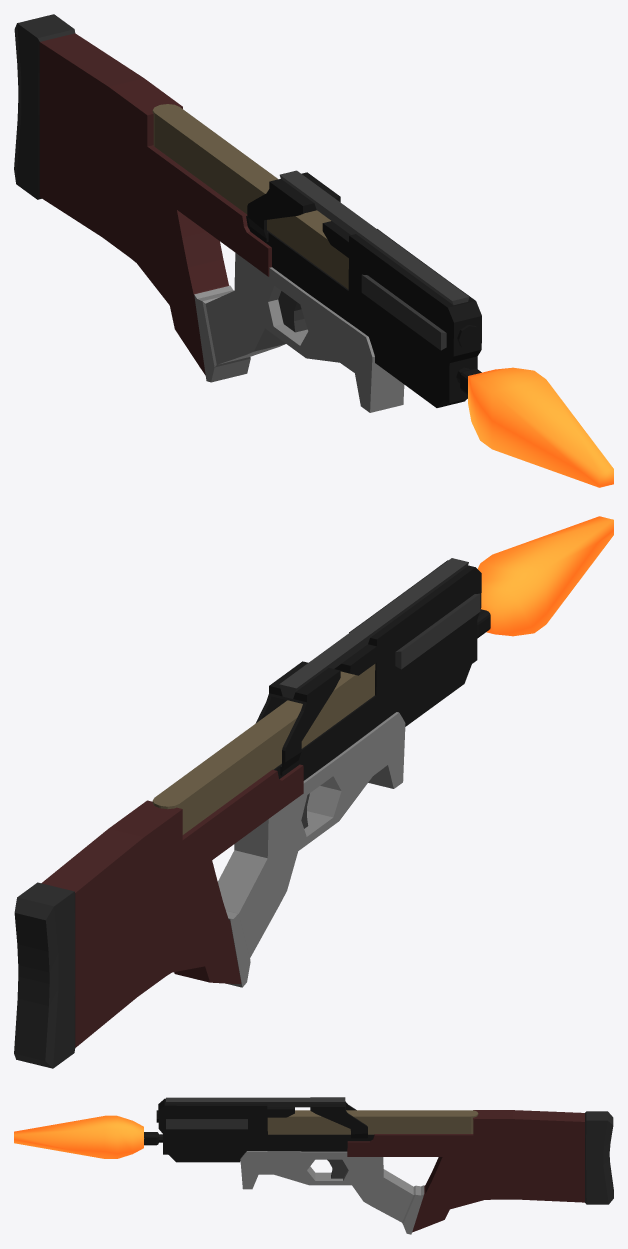
The model's file is BarracudaModel.glb.
3 renders of one model, top to bottom at view 1: azimuth 30°, elevation 25°; view 2: azimuth 150°, elevation 25°; view 3: azimuth 270°, elevation 25°, orthographic. The views are drawn at different scales.
Parts seen in each view (by area): view 1: WoodenStock, BarrelAndAction, PistolGripSection, MuzzleFlash, Magazine, PicatinnyTop, RailBridge, PicatinnyRigt, TriggerMesh; view 2: WoodenStock, PistolGripSection, BarrelAndAction, MuzzleFlash, Magazine, PicatinnyTop, RailBridge, PicatinnyRigt; view 3: WoodenStock, BarrelAndAction, PistolGripSection, Magazine, MuzzleFlash, PicatinnyTop, RailBridge, PicatinnyLeft, TriggerMesh.
Part boxes in pixels (<box>): WoodenStock: <box>14,14,271,375</box>; BarrelAndAction: <box>246,216,481,407</box>; PistolGripSection: <box>194,253,404,412</box>; MuzzleFlash: <box>468,367,613,487</box>; Magazine: <box>152,104,348,289</box>; PicatinnyTop: <box>279,170,469,305</box>; RailBridge: <box>247,172,340,242</box>; PicatinnyRigt: <box>361,274,446,350</box>; TriggerMesh: <box>278,291,307,332</box>; WoodenStock: <box>14,764,303,1068</box>; PistolGripSection: <box>218,712,405,987</box>; BarrelAndAction: <box>273,560,481,780</box>; MuzzleFlash: <box>478,516,613,636</box>; Magazine: <box>152,664,375,834</box>; PicatinnyTop: <box>279,558,468,698</box>; RailBridge: <box>255,661,340,775</box>; PicatinnyRigt: <box>395,593,480,669</box>; WoodenStock: <box>347,1110,613,1232</box>; BarrelAndAction: <box>158,1098,374,1162</box>; PistolGripSection: <box>240,1151,424,1234</box>; Magazine: <box>267,1110,478,1134</box>; MuzzleFlash: <box>14,1115,143,1158</box>; PicatinnyTop: <box>166,1097,345,1107</box>; RailBridge: <box>310,1097,367,1140</box>; PicatinnyLeft: <box>166,1119,247,1129</box>; TriggerMesh: <box>327,1159,347,1178</box>.
Bounding box in the file's own units: 0.3347 × 1.48 × 6.17.
